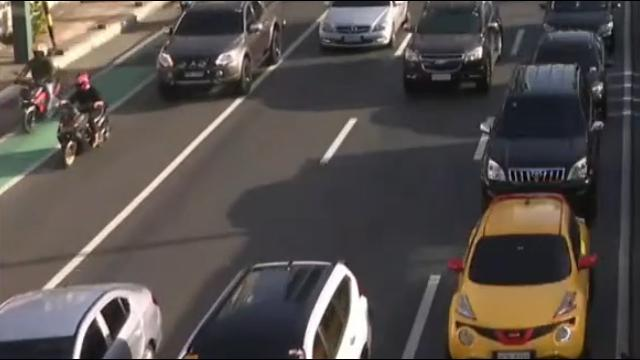car: (447, 190, 600, 360), (177, 259, 376, 360), (479, 63, 604, 210), (152, 0, 285, 99), (0, 281, 165, 360), (403, 0, 505, 92), (529, 31, 603, 126), (317, 0, 413, 52)
motorcycle: (55, 70, 110, 166), (13, 41, 61, 132)
